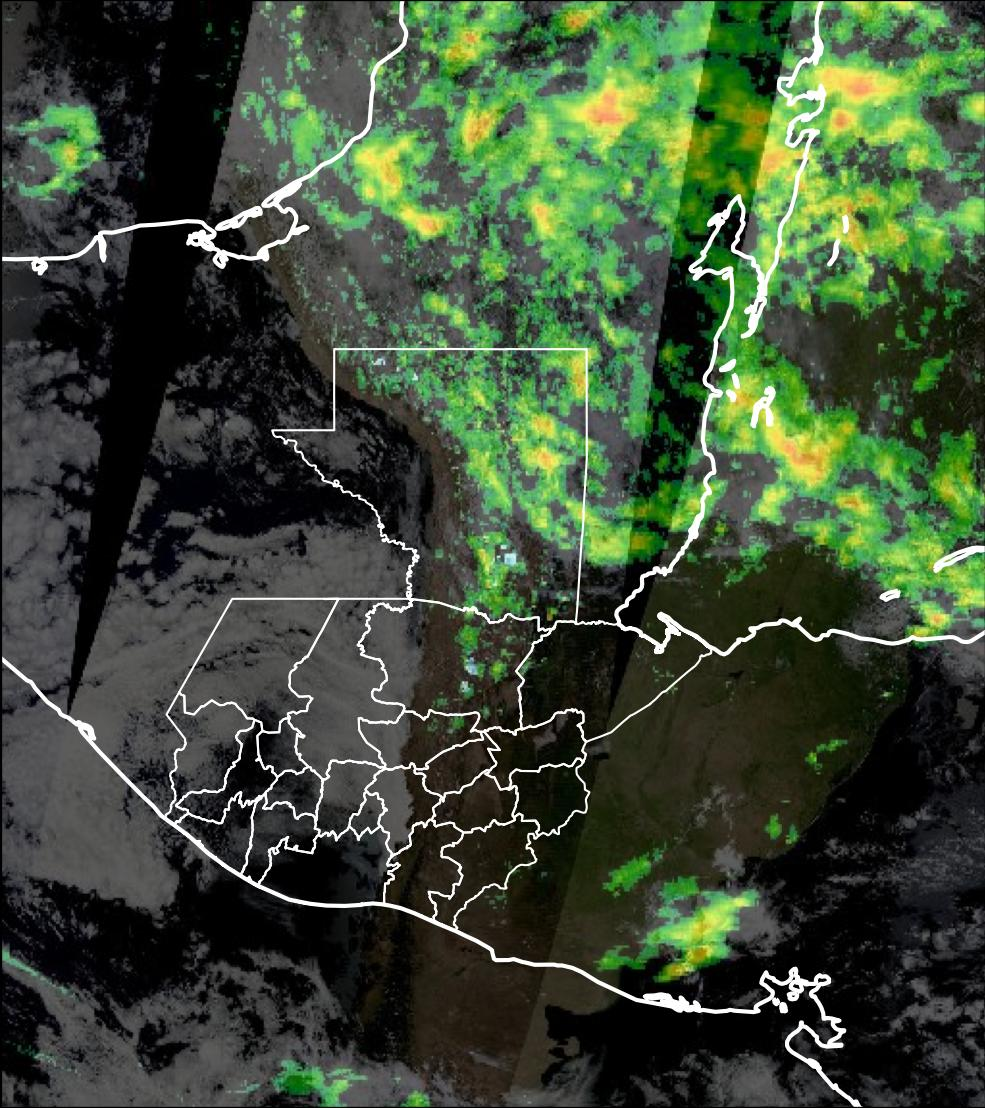precipitacion: (819, 56, 893, 139)
